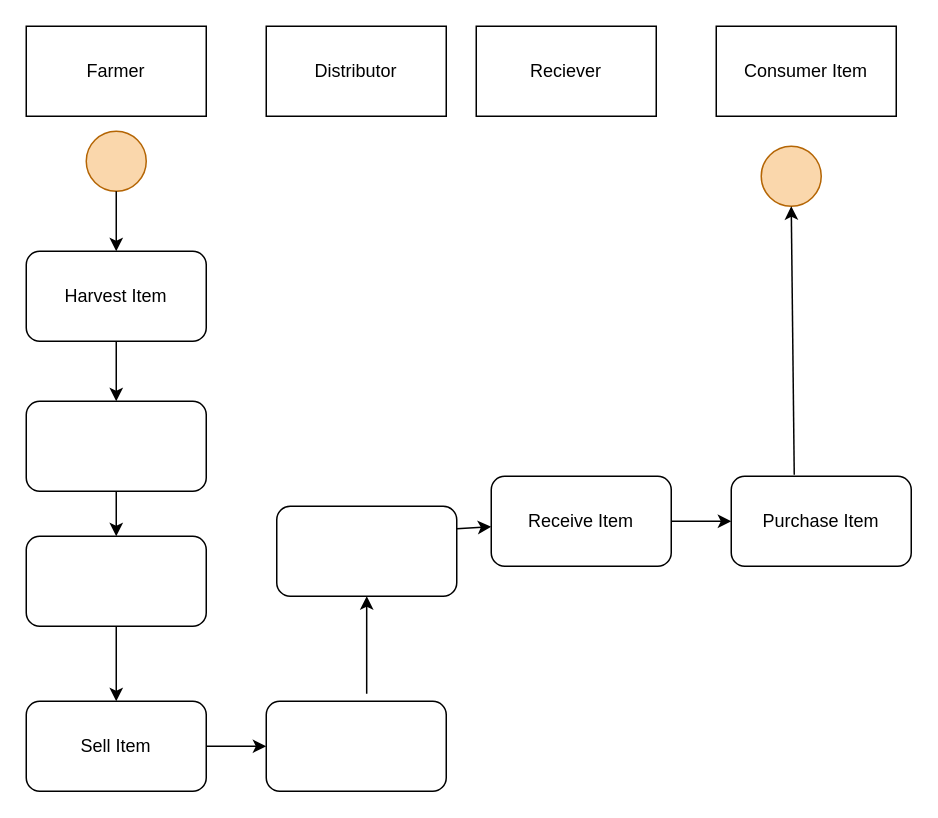
The diagram is 938 pixels wide and 818 high, and some of its shapes have lost their labels. The shapes that lost their labels are listed below. From the top down, each one's centre as x and y in pixels, then its label:
At [115,445]: "Process Item".
At [366,550]: "Ship Item".
At [115,580]: "Pack Item".
At [355,745]: "Buy Item".
